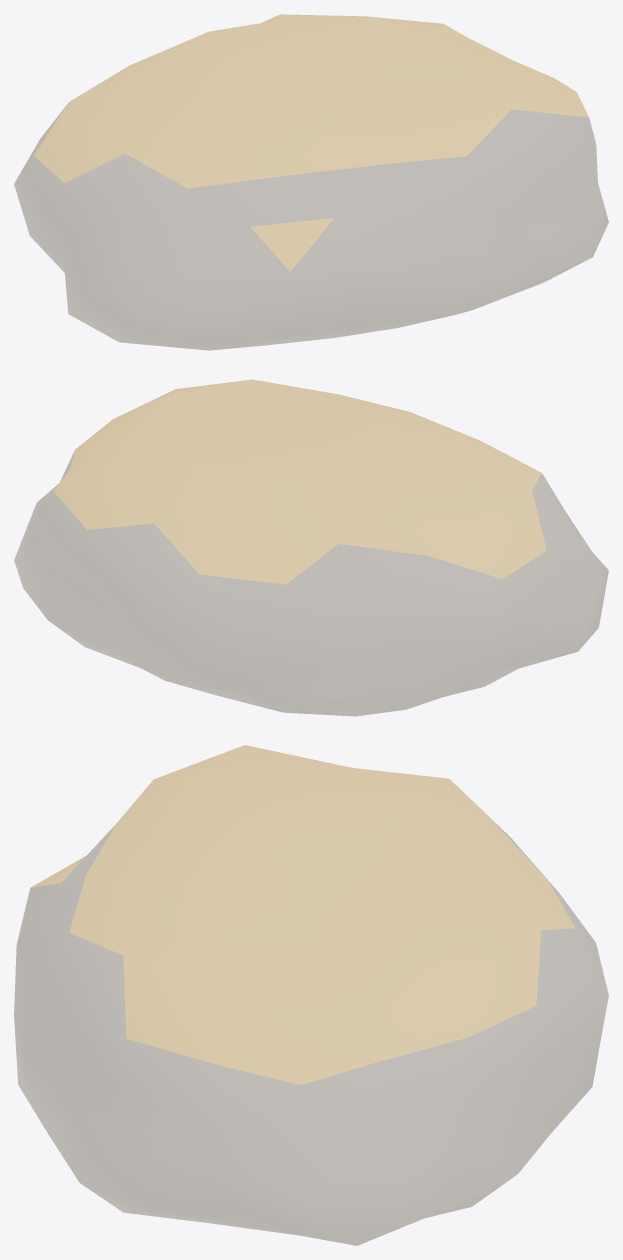
The model's file is Blender_MossRock_2.glb.
3 views of the same model, one above another, from view 1: azimuth 30°, elevation 25°; view 2: azimuth 150°, elevation 25°; view 3: azimuth 270°, elevation 25° (orthographic). The views are drawn at different scales.
Visible parts, largest first — view 1: Blender_MossRock_2; view 2: Blender_MossRock_2; view 3: Blender_MossRock_2.
Part boxes in pixels (<box>): Blender_MossRock_2: <box>14,14,608,350</box>; Blender_MossRock_2: <box>14,379,608,716</box>; Blender_MossRock_2: <box>14,745,608,1245</box>.
Bounding box in the file's own units: 2.01 × 0.7424 × 1.52.
